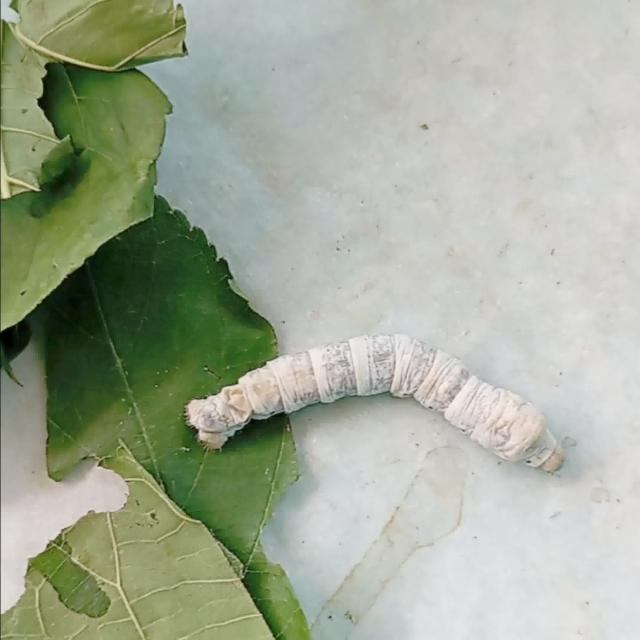Grasserie: (174, 276, 582, 498)
